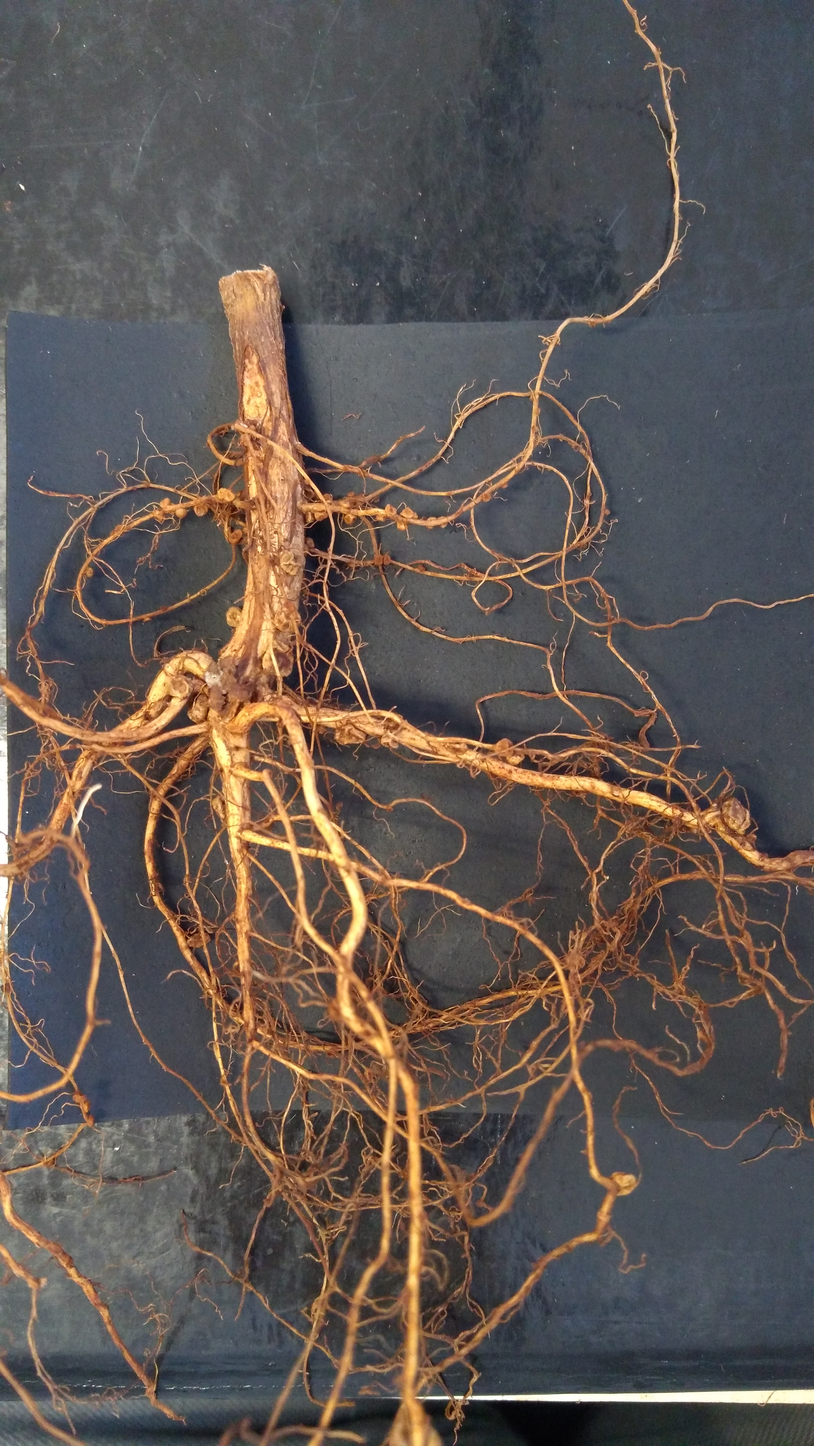nodule: (218, 650, 259, 704), (718, 794, 754, 838), (257, 644, 297, 683), (331, 721, 368, 747), (278, 548, 308, 578), (186, 692, 212, 726), (272, 609, 304, 636), (167, 671, 196, 699), (205, 682, 230, 714), (184, 926, 214, 952), (609, 1170, 637, 1195), (222, 604, 247, 631), (492, 735, 516, 758), (377, 730, 402, 752), (210, 792, 228, 820), (443, 739, 470, 757), (502, 748, 525, 768), (216, 485, 237, 504), (398, 506, 420, 521), (381, 500, 399, 517), (192, 502, 211, 517), (228, 528, 244, 545), (150, 509, 166, 526), (303, 535, 318, 550), (343, 512, 359, 526), (371, 552, 385, 568), (174, 507, 191, 520), (395, 519, 409, 534), (381, 551, 393, 568), (157, 498, 173, 510), (314, 511, 331, 522), (83, 564, 96, 578), (304, 510, 315, 525), (480, 492, 493, 504), (302, 543, 311, 558), (321, 491, 333, 502), (376, 514, 387, 525), (526, 750, 536, 761), (303, 479, 313, 488), (500, 480, 508, 490), (531, 424, 540, 432), (603, 507, 610, 517), (346, 491, 356, 497), (529, 391, 535, 401), (558, 434, 564, 442), (537, 406, 542, 415)
